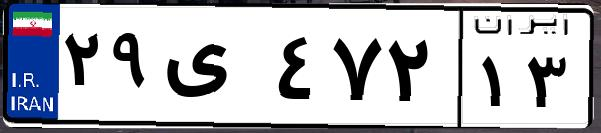1: (475, 38, 525, 113)
2: (385, 28, 445, 110), (57, 26, 110, 100)
3: (525, 38, 570, 115)
4: (270, 28, 330, 110)
7: (330, 28, 385, 110)
9: (110, 28, 158, 98)
ی: (158, 20, 270, 120)
